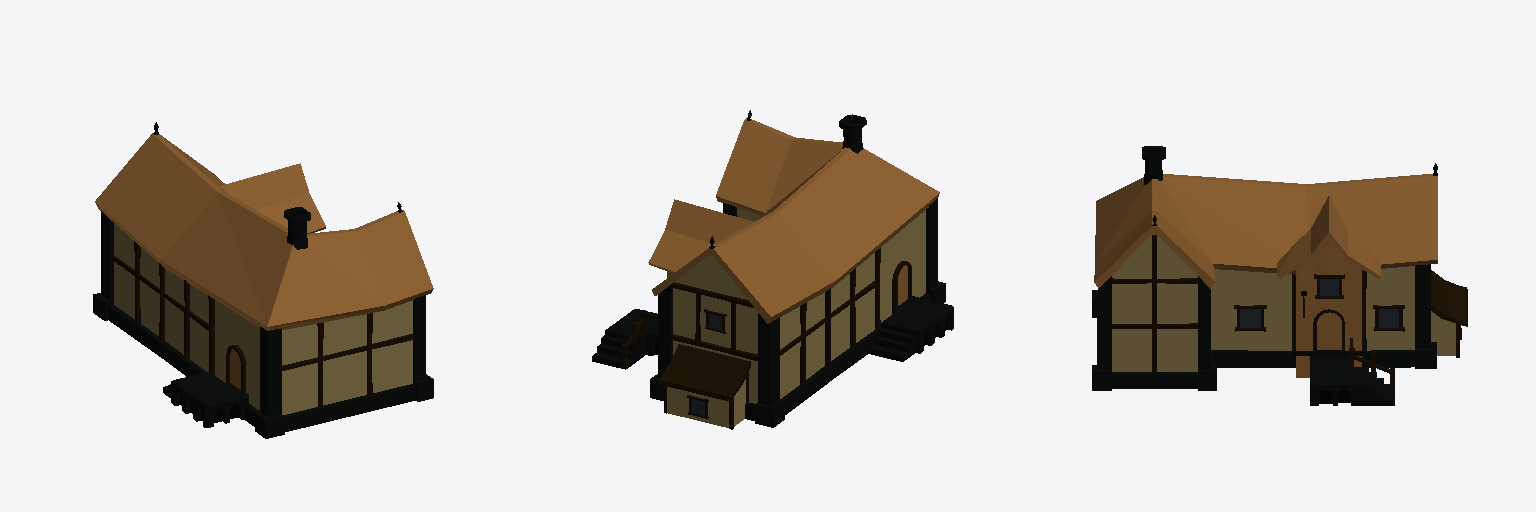
The model's file is SM_Caravanserai.obj.
3 renders of one model, left to right at view 1: azimuth 30°, elevation 25°; view 2: azimuth 150°, elevation 25°; view 3: azimuth 270°, elevation 25°, orthographic.
Parts seen in each view (by area): view 1: SM_Inn:SM_Inn1; view 2: SM_Inn:SM_Inn1; view 3: SM_Inn:SM_Inn1.
Boxes of the visible parts, <box> form: SM_Inn:SM_Inn1: <box>93,122,433,438</box>; SM_Inn:SM_Inn1: <box>592,110,953,429</box>; SM_Inn:SM_Inn1: <box>1092,146,1467,405</box>.
Bounding box in the file's own units: 18.6 × 14.21 × 25.55.